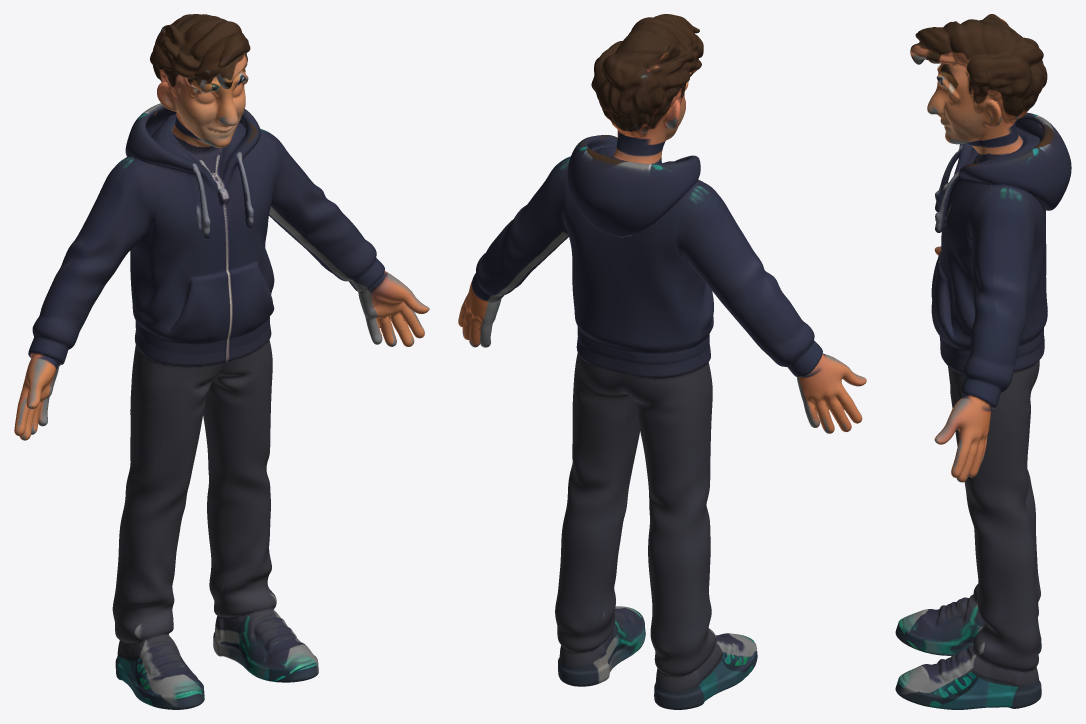
File: Thief_Hoodie.glb
3 renders of one model, left to right at view 1: azimuth 30°, elevation 25°; view 2: azimuth 150°, elevation 25°; view 3: azimuth 270°, elevation 25°, orthographic.
Parts seen in each view (by area): view 1: tripo_node_500f7323-e25f-4fdc-8c24-cb96fc1e97f7; view 2: tripo_node_500f7323-e25f-4fdc-8c24-cb96fc1e97f7; view 3: tripo_node_500f7323-e25f-4fdc-8c24-cb96fc1e97f7.
Part boxes in pixels (box(x1,y1,x2,y2)): tripo_node_500f7323-e25f-4fdc-8c24-cb96fc1e97f7: box(14, 14, 429, 709); tripo_node_500f7323-e25f-4fdc-8c24-cb96fc1e97f7: box(458, 14, 866, 709); tripo_node_500f7323-e25f-4fdc-8c24-cb96fc1e97f7: box(895, 14, 1071, 709).
Bounding box in the file's own units: 0.6491 × 1 × 0.2443.
Materials: 1 (1 with a texture image).
